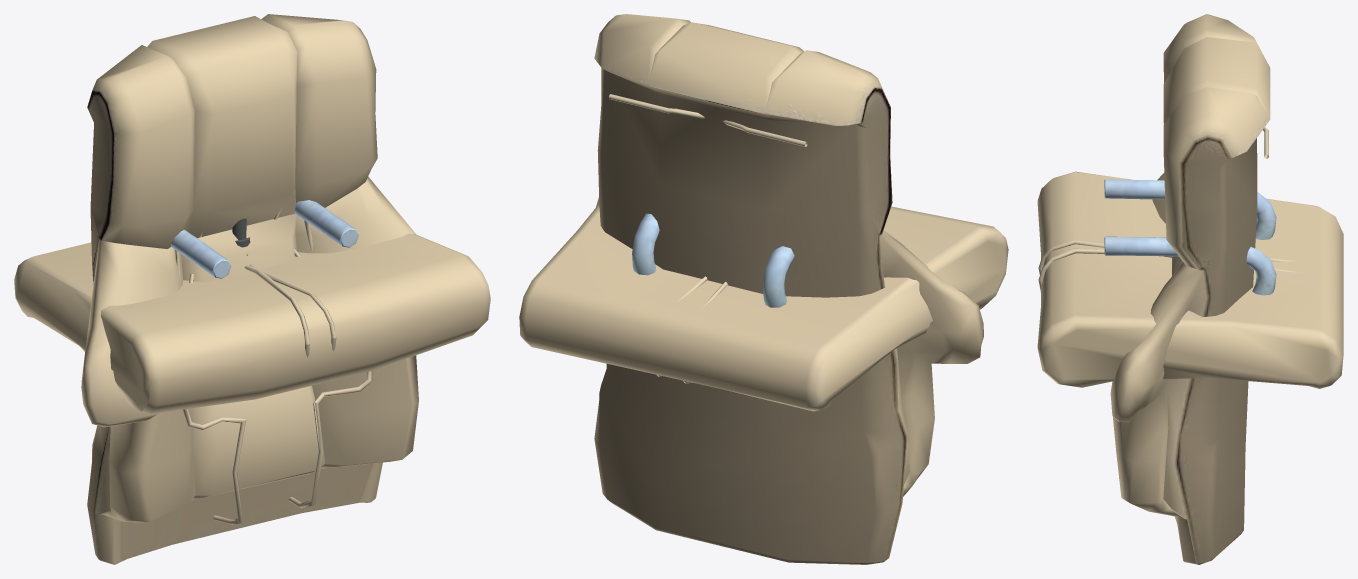
Rendered from office-chair.glb.
The picture shows the model from 3 angles, left to right: view 1: azimuth 30°, elevation 25°; view 2: azimuth 150°, elevation 25°; view 3: azimuth 270°, elevation 25°; orthographic projection. The views are drawn at different scales.
Parts seen in each view (by area): view 1: up (×7), sweep5; view 2: up (×4); view 3: up (×6).
Part boxes in pixels (<box>): up (×7): <box>14,14,490,564</box>; sweep5: <box>183,232,246,524</box>; up (×4): <box>519,14,1008,564</box>; up (×6): <box>1037,14,1343,564</box>.
Bounding box in the file's own units: 2183421 × 2720827 × 1662029.
Materials: 2 (2 with a texture image).
